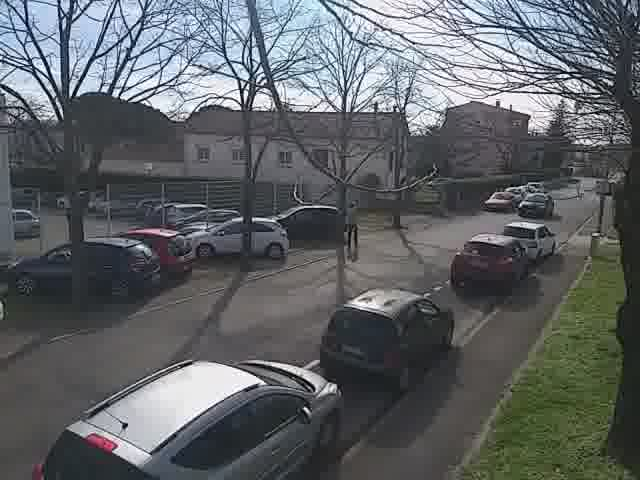persona: (341, 199, 362, 253)
